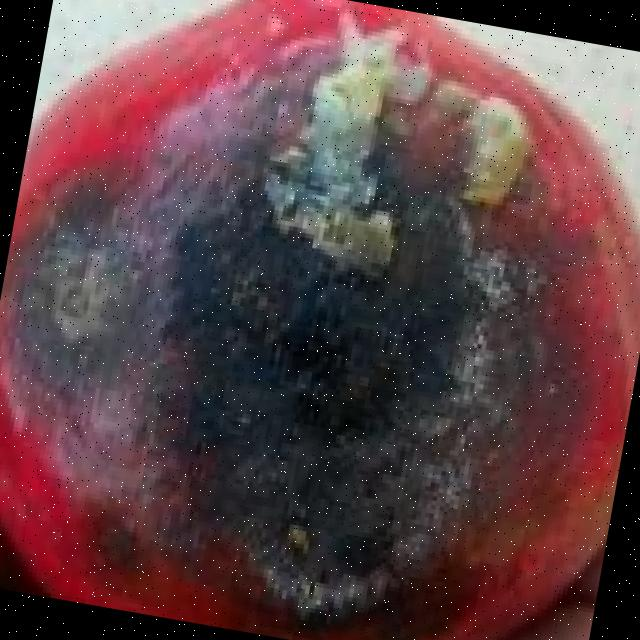Bad_Pomegranate-0-1-day: (0, 0, 640, 640)
